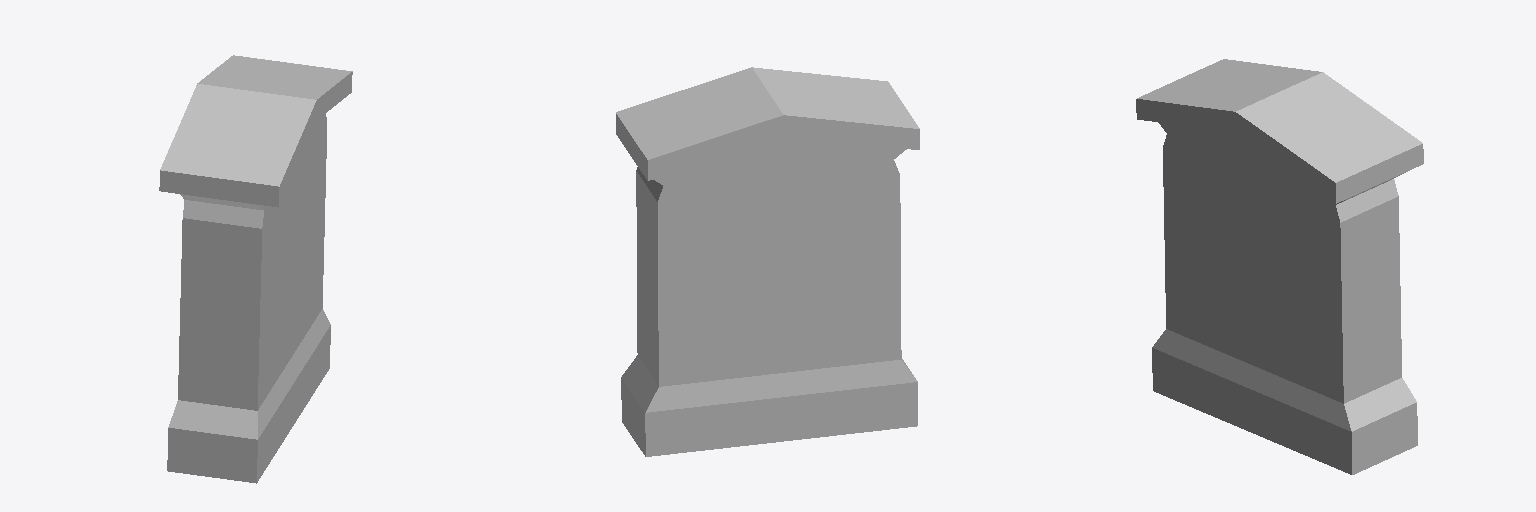
Rendered from Gravestone_Roof_4 1.obj.
3 renders of one model, left to right at view 1: azimuth 30°, elevation 25°; view 2: azimuth 150°, elevation 25°; view 3: azimuth 270°, elevation 25°, orthographic.
Visible parts, largest first — view 1: Gravestone_Roof_4; view 2: Gravestone_Roof_4; view 3: Gravestone_Roof_4.
Boxes of the visible parts, <box> form: Gravestone_Roof_4: <box>159,55,352,483</box>; Gravestone_Roof_4: <box>616,67,919,456</box>; Gravestone_Roof_4: <box>1136,59,1423,474</box>.
Size of the model in its own units: 0.5564 by 0.7076 by 0.5564.